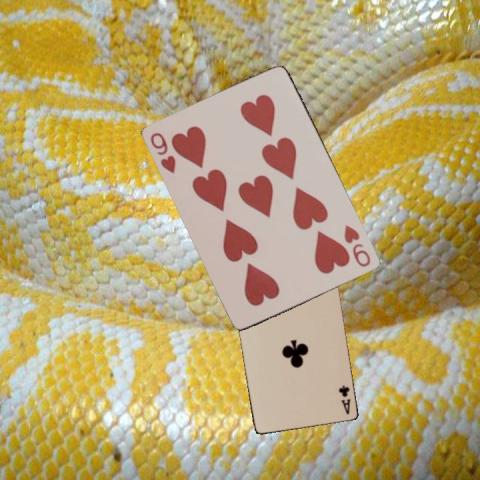9h: (341, 222, 373, 269), (148, 129, 178, 176)
Ac: (336, 382, 351, 415)
